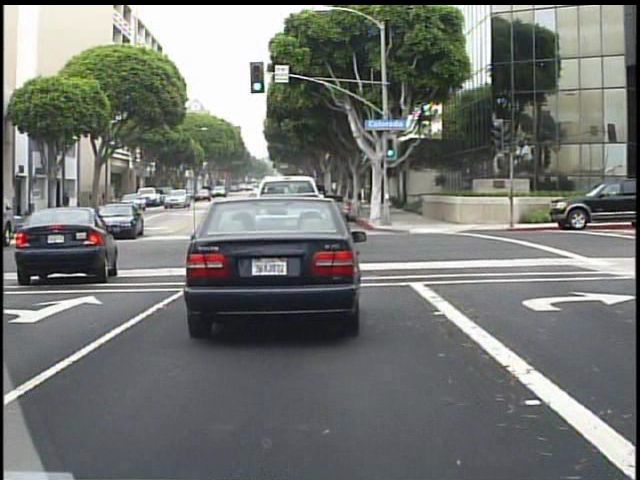person: (59, 188, 77, 221)
